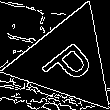P_NE: (34, 30, 99, 91)
